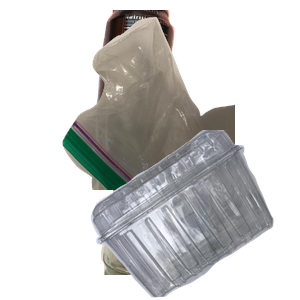glass: (98, 120, 286, 300)
metal: (91, 10, 258, 188)
plastic: (88, 130, 300, 300)
trash: (60, 14, 300, 194)
